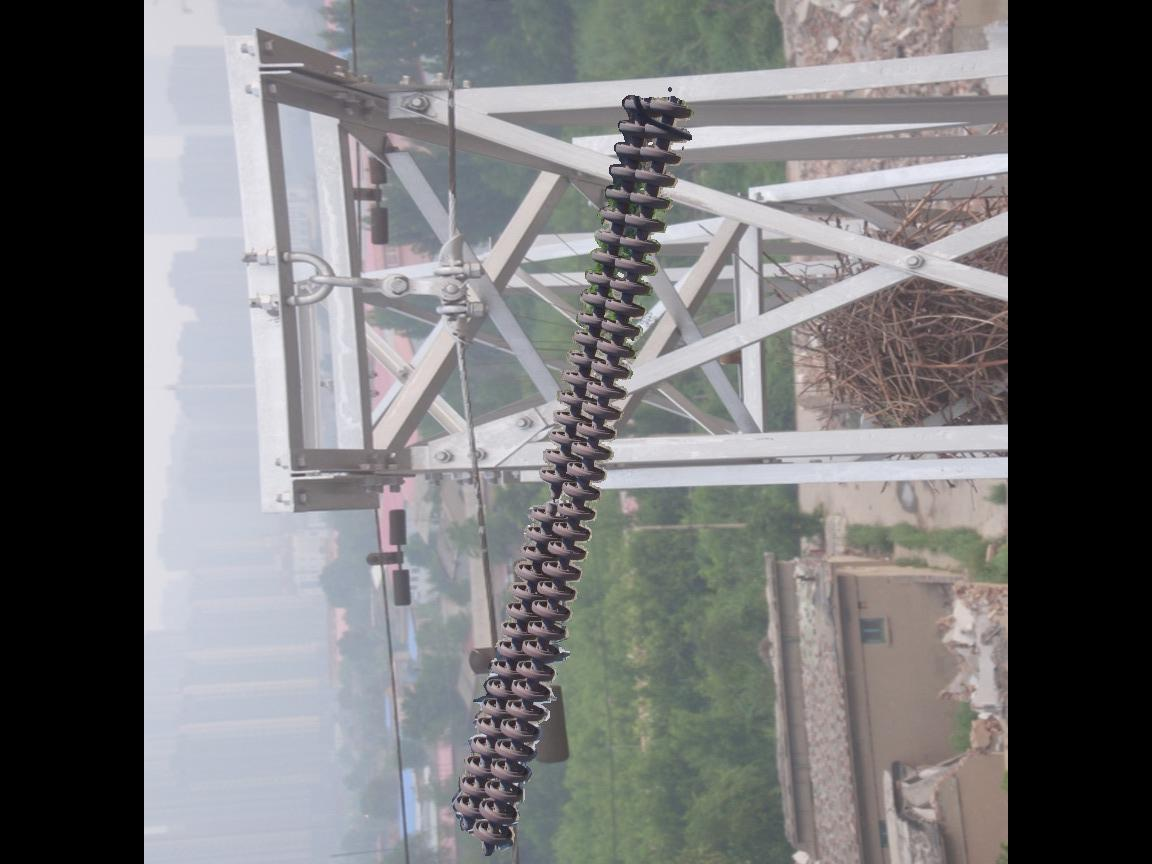insulator: (445, 85, 699, 851)
insulator_stringdrop: (524, 465, 571, 527)
